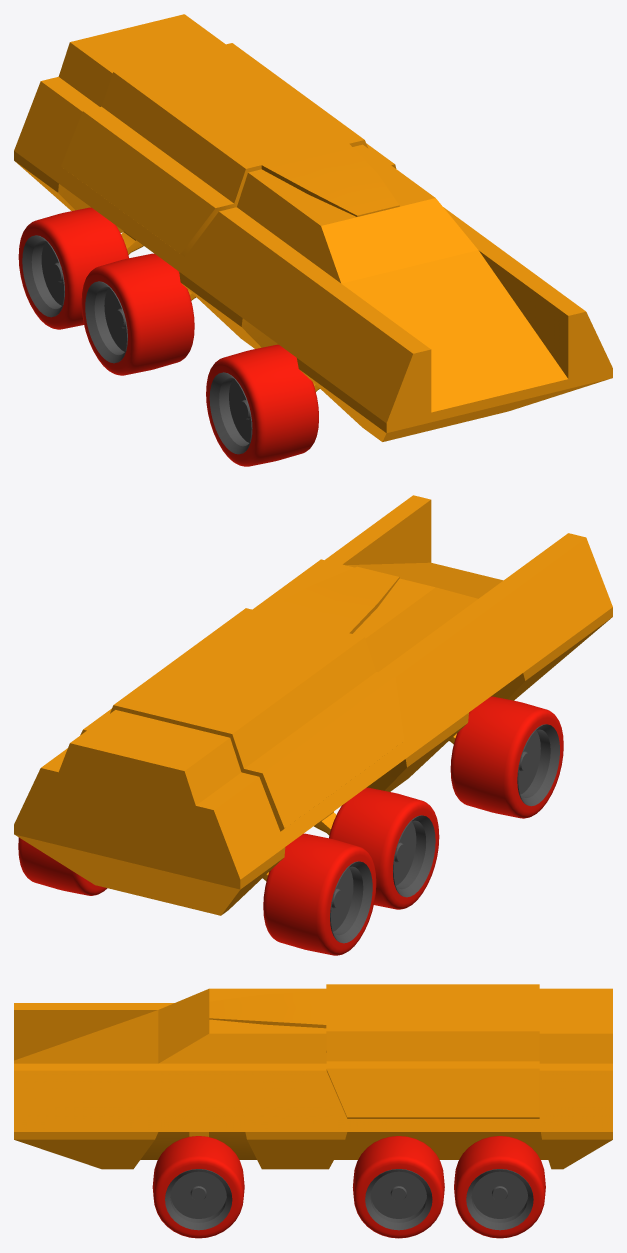
The model's file is Prop022.fbx.
3 views of the same model, one above another, from view 1: azimuth 30°, elevation 25°; view 2: azimuth 150°, elevation 25°; view 3: azimuth 270°, elevation 25° (orthographic). The views are drawn at different scales.
Visible parts, largest first — view 1: Chasis, Wheel011, Wheel010, Wheel012; view 2: Chasis, Wheel010, Wheel012, Wheel011, Wheel009; view 3: Chasis, Wheel008, Wheel009, Wheel005.
Boxes of the visible parts, x1=… form: Chasis: x1=14, y1=14, x2=612, y2=441; Wheel011: x1=81, y1=253, x2=194, y2=375; Wheel010: x1=206, y1=344, x2=318, y2=466; Wheel012: x1=18, y1=207, x2=128, y2=329; Chasis: x1=14, y1=495, x2=612, y2=915; Wheel010: x1=450, y1=696, x2=563, y2=818; Wheel012: x1=263, y1=833, x2=376, y2=955; Wheel011: x1=329, y1=787, x2=439, y2=909; Wheel009: x1=18, y1=837, x2=107, y2=895; Chasis: x1=14, y1=984, x2=612, y2=1169; Wheel008: x1=352, y1=1136, x2=444, y2=1238; Wheel009: x1=454, y1=1136, x2=545, y2=1238; Wheel005: x1=152, y1=1136, x2=244, y2=1238.
Bounding box in the file's own units: 330 × 220 × 689.
